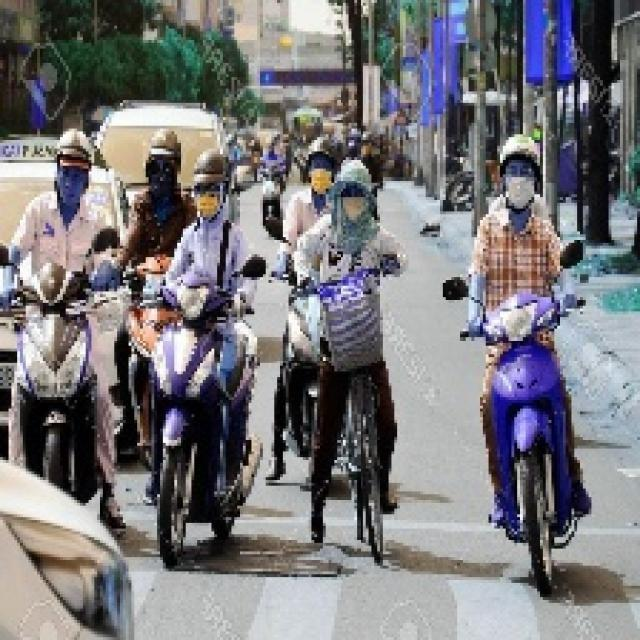Motorcycle: (143, 307, 261, 531), (482, 284, 581, 550), (10, 269, 99, 493)
